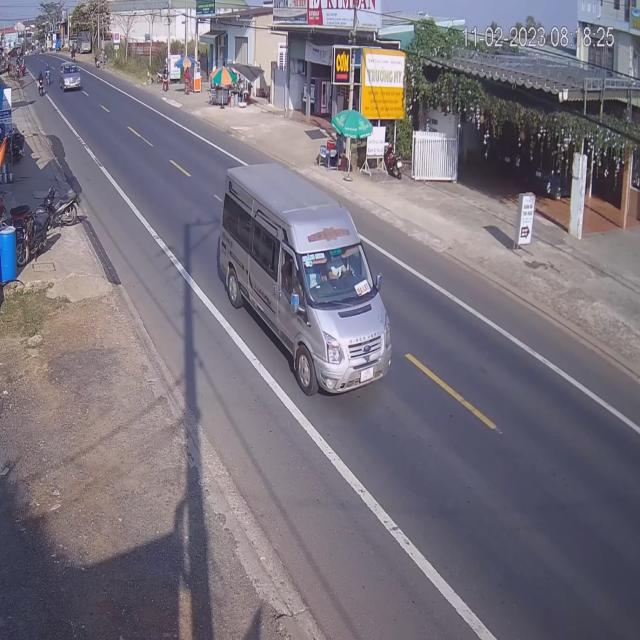bus: (221, 164, 394, 396)
car: (61, 62, 83, 93)
motorbike: (38, 70, 45, 97)
